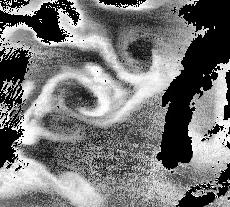AE: (49, 68, 114, 124)
CE: (116, 24, 170, 84)
